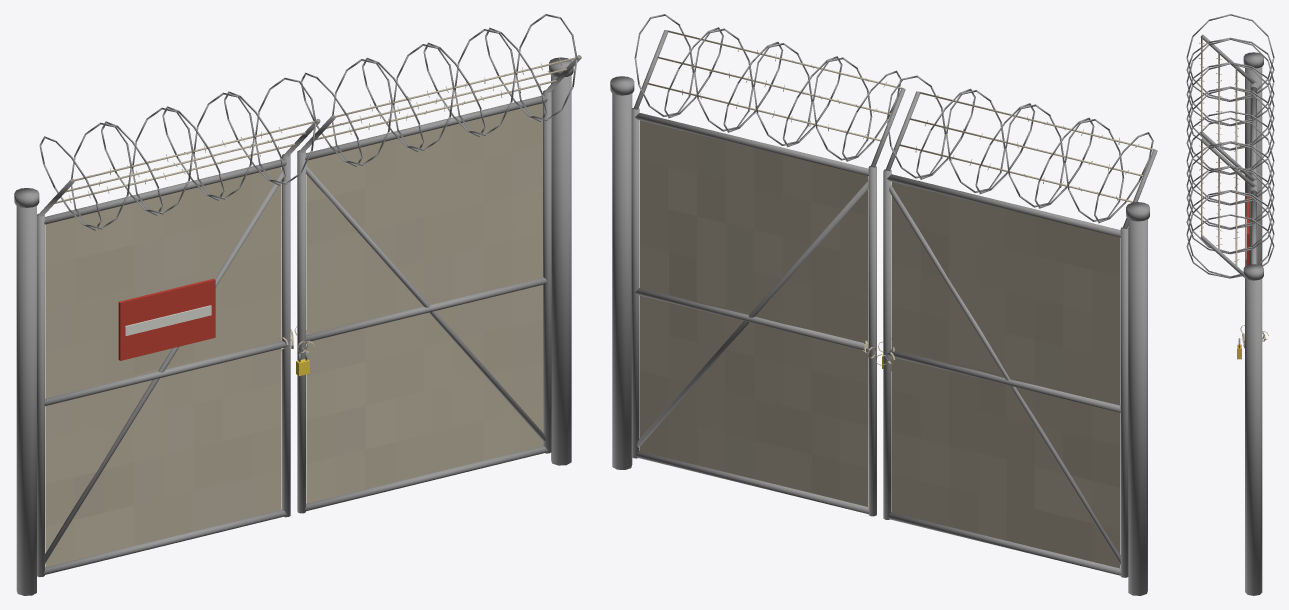
Rendered from hood_gate_chain.glb.
3 renders of one model, left to right at view 1: azimuth 30°, elevation 25°; view 2: azimuth 150°, elevation 25°; view 3: azimuth 270°, elevation 25°, orthographic. The views are drawn at different scales.
Visible parts, largest first — view 1: GateR_v2, GateL_v2, arm.009, arm.008, gate_post.002, sign.001, barb.189, barb.188, sign_band.001; view 2: GateR_v2, GateL_v2, arm.008, arm.009, gate_post.002, barb.188, barb.189; view 3: gate_post.002, arm.009, arm.008, barb.189, barb.188, sign.001.
Boxes of the visible parts, x1=… form: GateR_v2: x1=306, y1=103, x2=542, y2=503; GateL_v2: x1=45, y1=167, x2=281, y2=567; arm.009: x1=297, y1=14, x2=581, y2=513; arm.008: x1=37, y1=78, x2=320, y2=577; gate_post.002: x1=14, y1=57, x2=573, y2=595; sign.001: x1=118, y1=278, x2=215, y2=360; barb.189: x1=316, y1=56, x2=579, y2=140; barb.188: x1=55, y1=120, x2=318, y2=203; sign_band.001: x1=125, y1=305, x2=211, y2=336; GateR_v2: x1=640, y1=120, x2=868, y2=506; GateL_v2: x1=892, y1=182, x2=1120, y2=568; arm.008: x1=883, y1=75, x2=1157, y2=577; arm.009: x1=631, y1=14, x2=905, y2=516; gate_post.002: x1=610, y1=76, x2=1149, y2=595; barb.188: x1=899, y1=91, x2=1155, y2=202; barb.189: x1=647, y1=30, x2=902, y2=141; gate_post.002: x1=1243, y1=52, x2=1263, y2=595; arm.009: x1=1186, y1=117, x2=1274, y2=278; arm.008: x1=1186, y1=14, x2=1274, y2=185; barb.189: x1=1199, y1=139, x2=1239, y2=265; barb.188: x1=1198, y1=35, x2=1239, y2=162; sign.001: x1=1246, y1=196, x2=1249, y2=265.
Bounding box in the file's own units: 3.62 × 2.85 × 0.6113.
